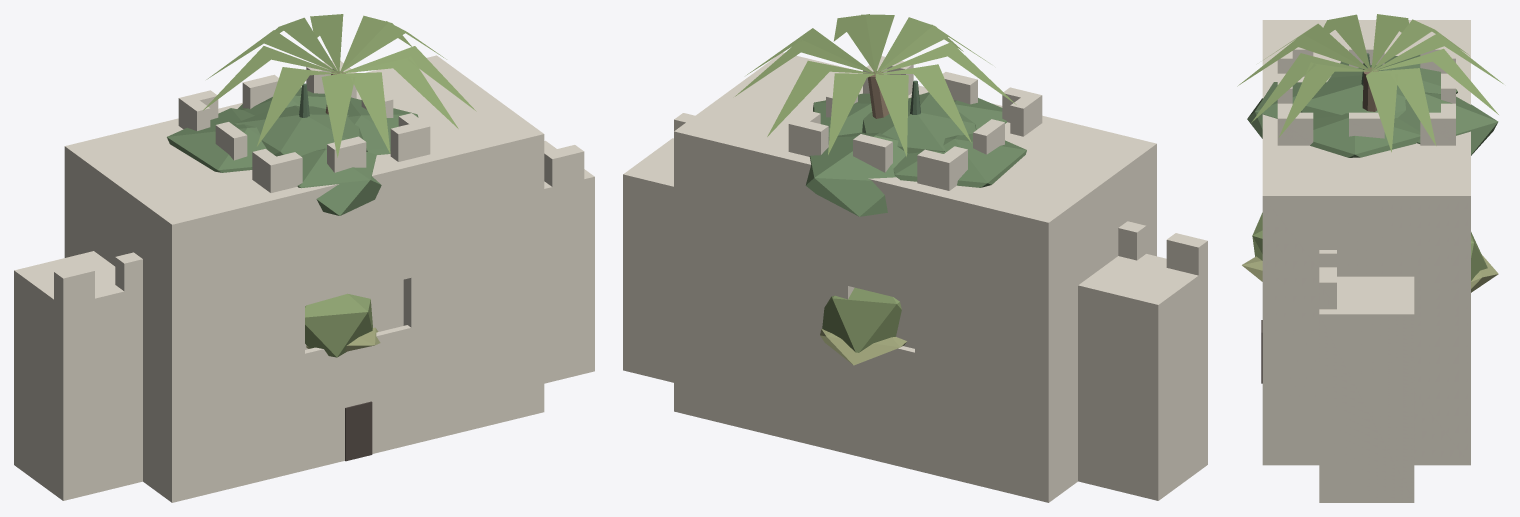
The model's file is landscape.glb.
3 renders of one model, left to right at view 1: azimuth 30°, elevation 25°; view 2: azimuth 150°, elevation 25°; view 3: azimuth 270°, elevation 25°, orthographic. The views are drawn at different scales.
Parts seen in each view (by area): view 1: gate, wall, tree_palm, house_c, tree_pine, tower, tree_oak; view 2: gate, wall, tree_palm, house_c, tree_pine, tower, tree_oak, tree_acacia; view 3: gate, wall, tree_palm, tree_pine, tower, tree_oak, tree_acacia.
Boxes of the visible parts, x1,y1,x2,y2 form: gate: [64, 55, 544, 502]; wall: [14, 140, 594, 500]; tree_palm: [203, 14, 476, 157]; house_c: [305, 325, 411, 470]; tree_pine: [167, 87, 418, 215]; tower: [178, 60, 430, 349]; tree_oak: [305, 293, 372, 357]; gate: [674, 52, 1156, 502]; wall: [623, 113, 1207, 500]; tree_palm: [735, 14, 1016, 156]; house_c: [808, 276, 914, 470]; tree_pine: [805, 92, 1026, 216]; tower: [788, 56, 1042, 348]; tree_oak: [822, 287, 901, 352]; tree_acacia: [820, 329, 906, 365]; gate: [1262, 20, 1470, 465]; wall: [1319, 250, 1414, 502]; tree_palm: [1237, 14, 1503, 152]; tree_pine: [1247, 55, 1498, 157]; tower: [1277, 43, 1455, 145]; tree_oak: [1252, 212, 1487, 280]; tree_acacia: [1242, 255, 1498, 292].
Size of the model in its own units: 20 by 13.61 by 9.07.
